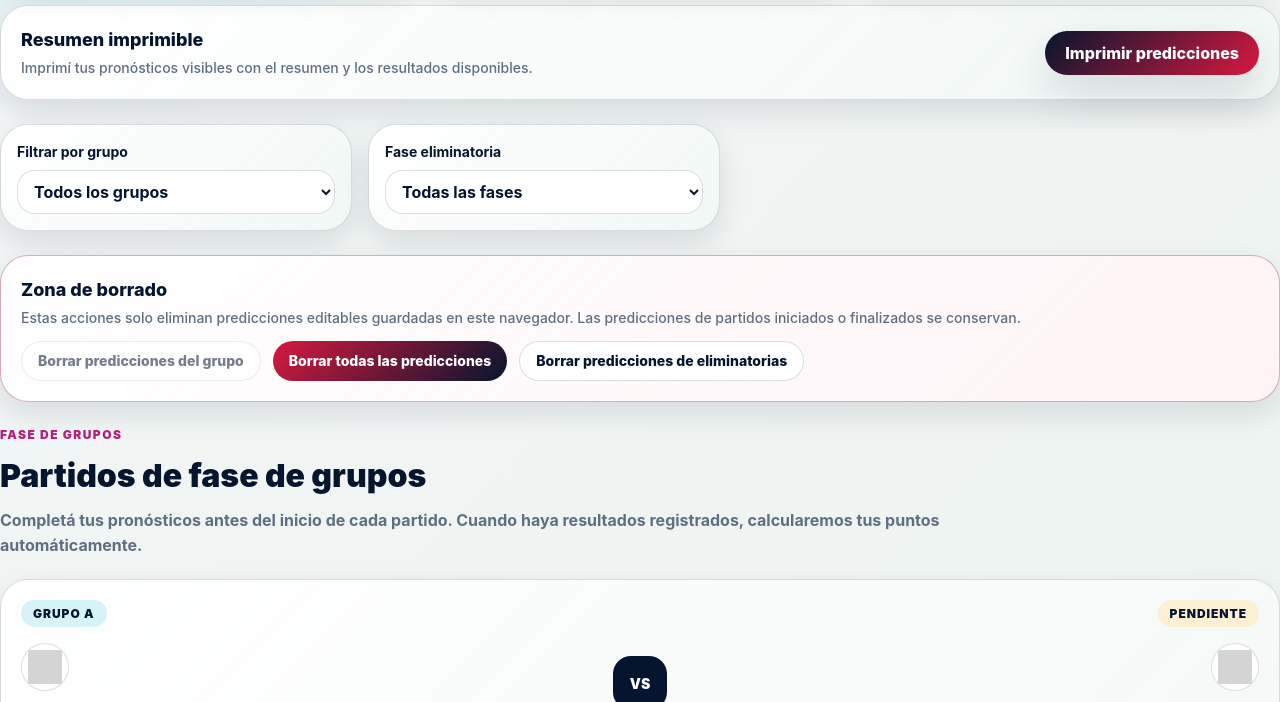
Test: PredictionFixture › clears only editable knockout predictions without affecting groups or locked knockout matches
The image size is (1280, 702).
(page scrolled)
What coordinates should you click on to do the following:
click the button "Borrar predicciones de eliminatorias"
I would click on:
 (662, 361)
Its box is [519,341,804,381].
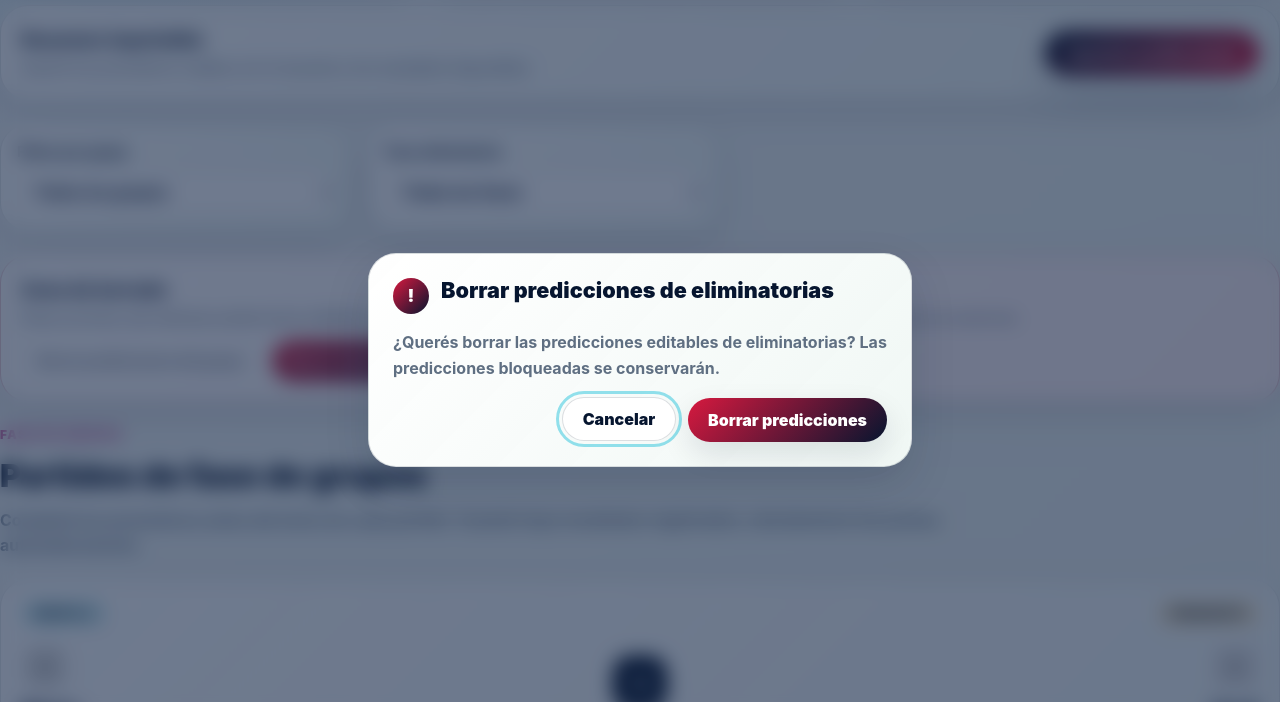
What coordinates should you click on to do the following:
click the button "Borrar predicciones"
I would click on:
 (788, 420)
Its box is [688,398,887,442].
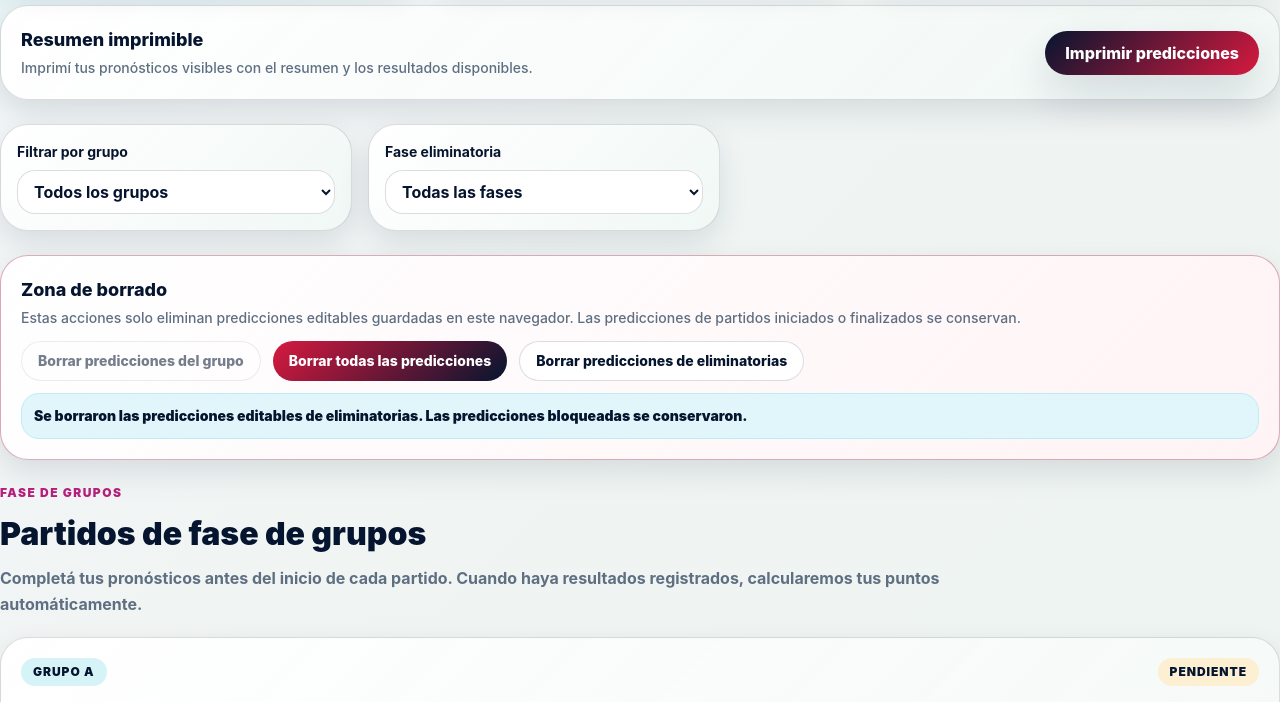
Expected: the text "Se borraron las predicciones editables de eliminatorias. Las predicciones bloqueadas se conservaron." is shown, [34,407,748,424]
